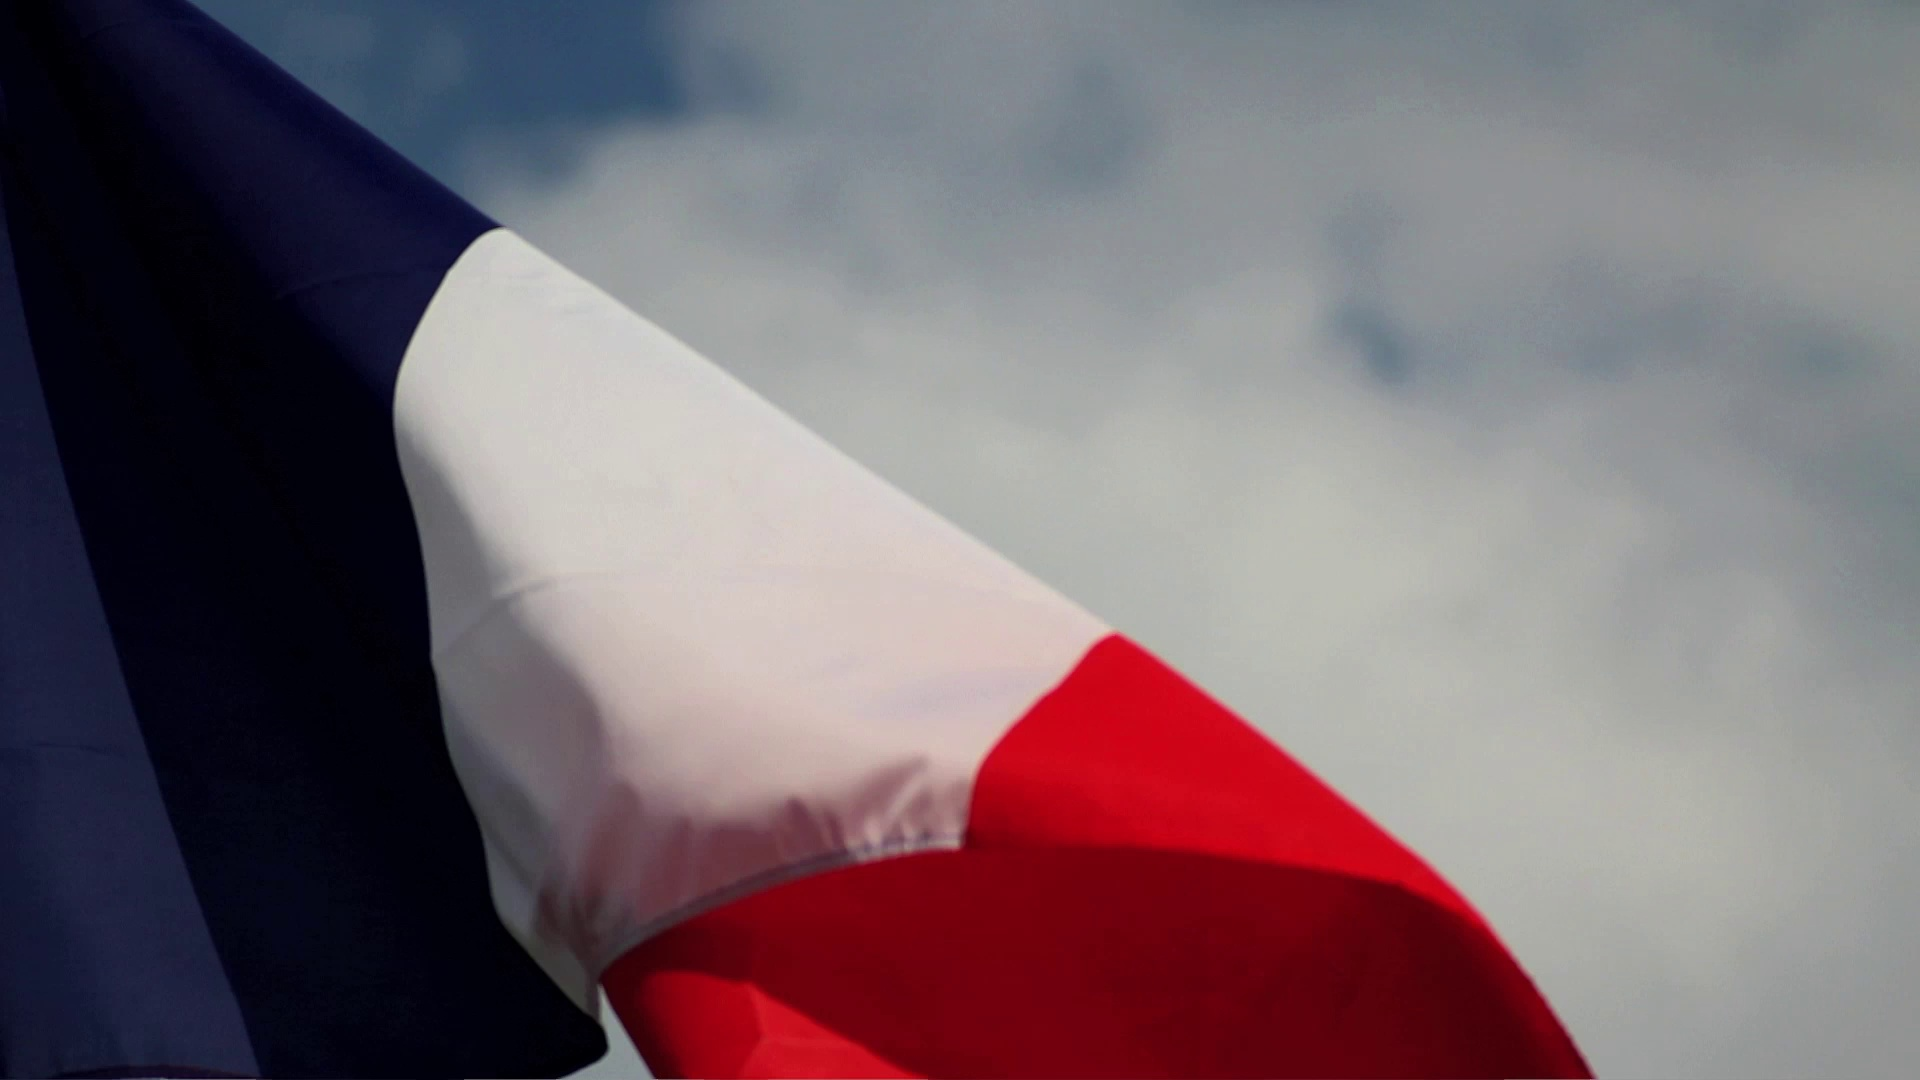French Flag: (1, 1, 1594, 1080)
